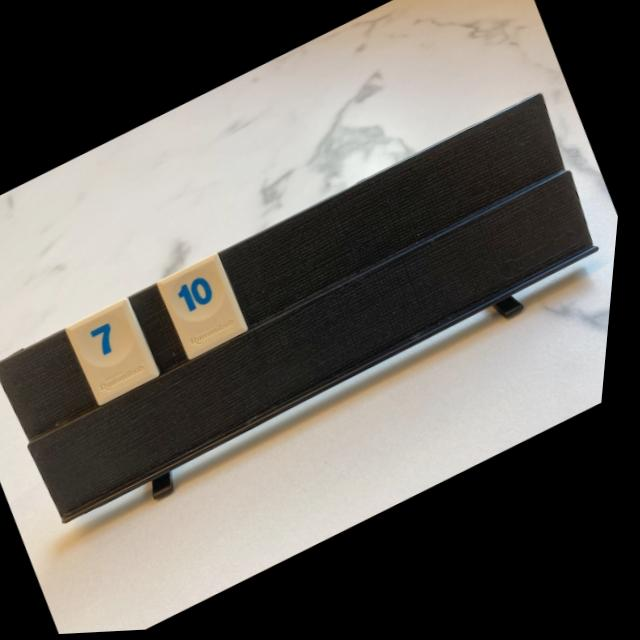blue_10: (164, 257, 253, 361)
blue_7: (73, 300, 166, 406)
